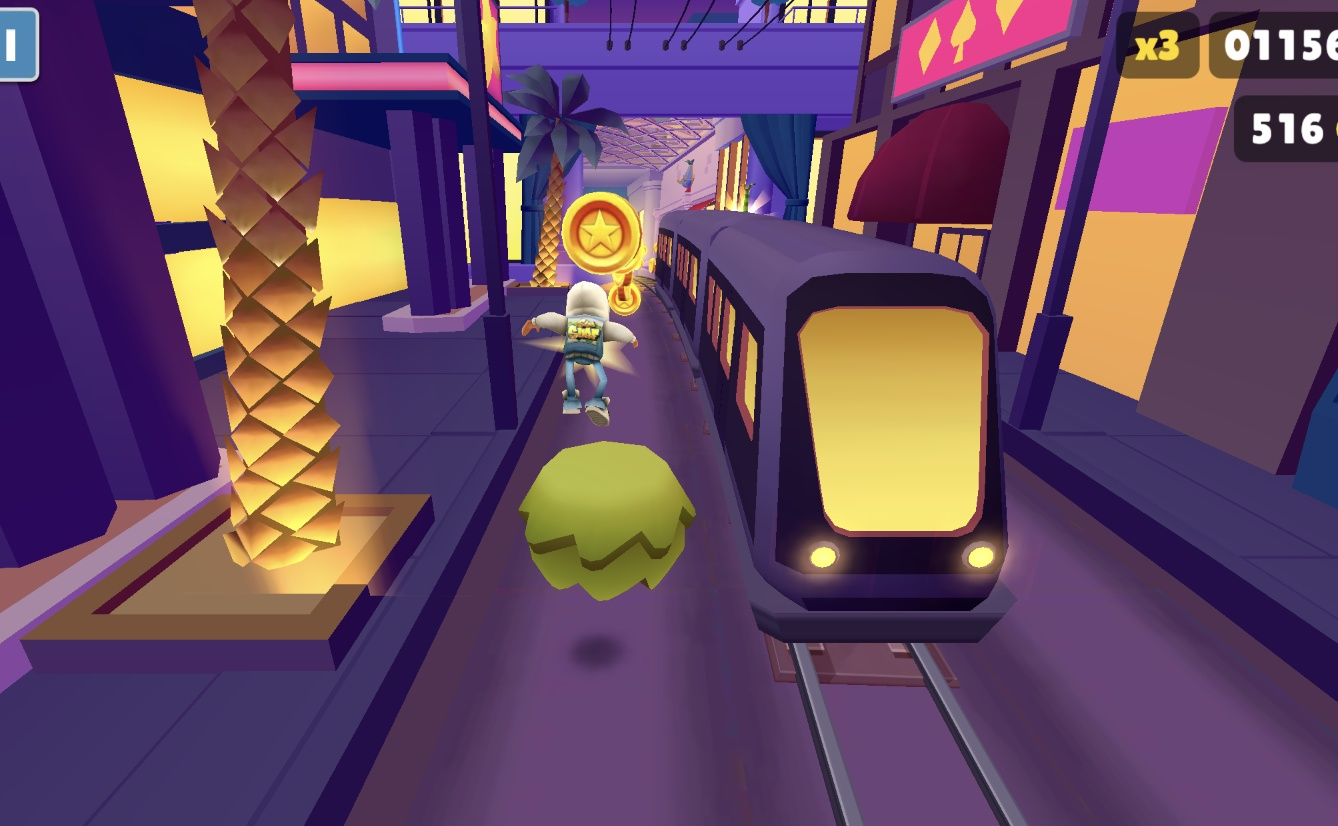bush: (517, 439, 701, 604)
train: (652, 215, 1036, 624)
